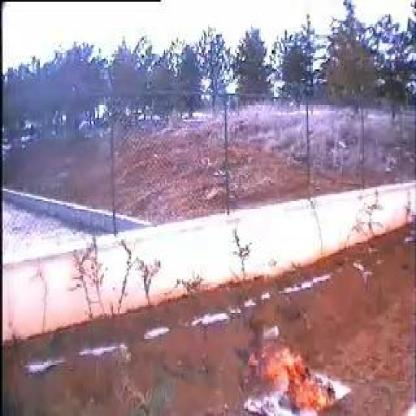foggia-v2-map80-epoch100 - v1 4323: (262, 347, 330, 409)
